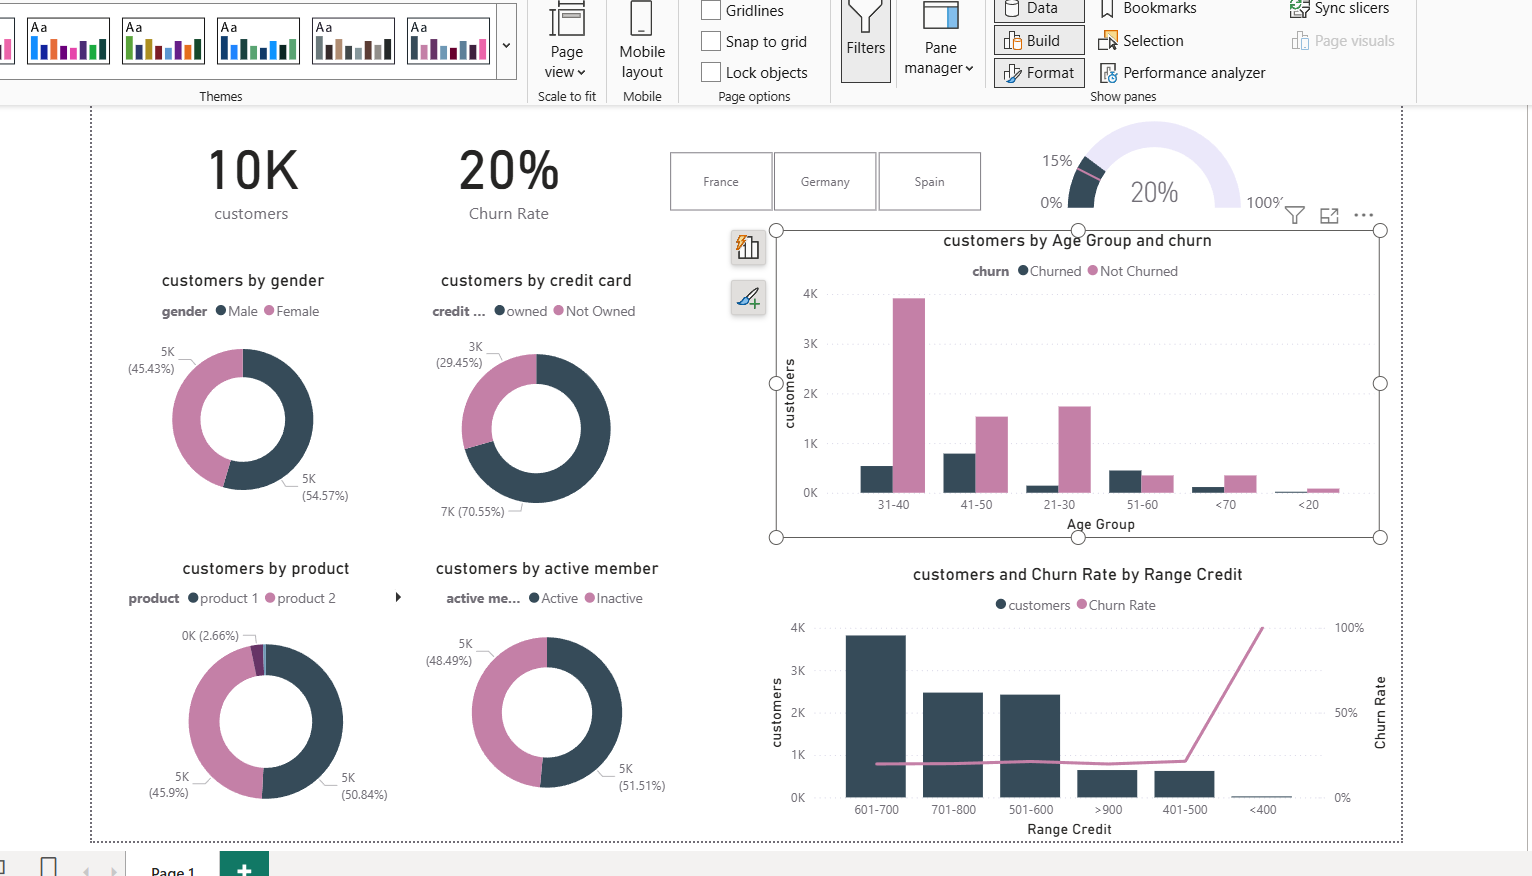

The dashboard page shown, as its layout file describes it:
{"tool":"powerbi","page":{"name":"Page 1","canvas":[1280,720],"ordinal":0},"visuals":[{"type":"card","fields":{"Values":["measure table.customers"]},"box":[53.4,0,204.7,133.5],"z":0},{"type":"card","fields":{"Values":["measure table.Churn Rate"]},"box":[309.7,3.6,197.6,126.4],"z":3},{"type":"donutChart","fields":{"Category":["Bank Customer Churn Prediction.gender"],"Y":["measure table.customers"]},"box":[0,162,295.4,243.8],"z":4},{"type":"donutChart","fields":{"Y":["measure table.customers"],"Category":["Bank Customer Churn Prediction.active member"]},"box":[283,443.2,325.7,254.5],"z":6},{"type":"donutChart","fields":{"Y":["measure table.customers"],"Category":["Bank Customer Churn Prediction.credit card"]},"box":[295.4,162,277.6,261.6],"z":7},{"type":"donutChart","fields":{"Y":["measure table.customers"],"Category":["Bank Customer Churn Prediction.product"]},"box":[30.3,443.2,279.4,272.3],"z":9},{"type":"slicer","fields":{"Values":["Bank Customer Churn Prediction.country"]},"box":[539.3,39.2,354.2,71.2],"z":10},{"type":"clusteredColumnChart","fields":{"Category":["Bank Customer Churn Prediction.Age Group"],"Y":["measure table.customers"],"Series":["Bank Customer Churn Prediction.churn"]},"box":[669.2,122.8,590.9,300.8],"z":11},{"type":"lineStackedColumnComboChart","fields":{"Category":["Bank Customer Churn Prediction.Range Credit"],"Y":["measure table.customers"],"Y2":["measure table.Churn Rate"]},"box":[656.7,448.5,615.8,272.3],"z":12},{"type":"gauge","fields":{"Y":["measure table.Churn Rate"],"MinValue":["Min(Bank Customer Churn Prediction.min churn rate)"],"MaxValue":["Max(Bank Customer Churn Prediction.max churn rate)"],"TargetValue":["Avg(Bank Customer Churn Prediction.Target churn)"]},"box":[911.3,10.7,274.1,99.7],"z":13}]}

Visuals, with their boxes on the page's 1280x720 design canvas (x1, y1, x2, y2). These are canvas units, not pixel positions in the 1532x876 screenshot, which may show the page scaled, cropped or inside an application window:
card - measure table.customers: (53,0,258,134)
card - measure table.Churn Rate: (310,4,507,130)
donutChart - Bank Customer Churn Prediction.gender x measure table.customers: (0,162,295,406)
donutChart - measure table.customers x Bank Customer Churn Prediction.active member: (283,443,609,698)
donutChart - measure table.customers x Bank Customer Churn Prediction.credit card: (295,162,573,424)
donutChart - measure table.customers x Bank Customer Churn Prediction.product: (30,443,310,716)
slicer - Bank Customer Churn Prediction.country: (539,39,894,110)
clusteredColumnChart - Bank Customer Churn Prediction.Age Group x measure table.customers: (669,123,1260,424)
lineStackedColumnComboChart - Bank Customer Churn Prediction.Range Credit x measure table.customers: (657,448,1272,721)
gauge - measure table.Churn Rate x Min(Bank Customer Churn Prediction.min churn rate): (911,11,1185,110)
